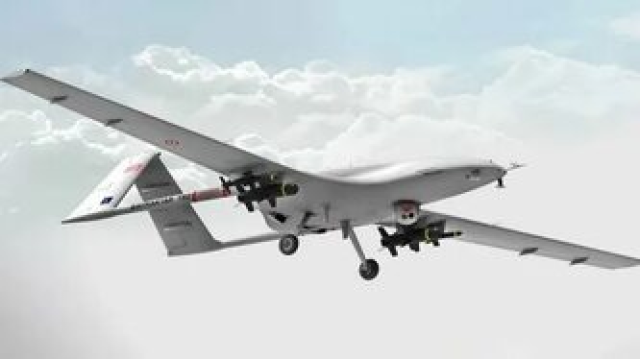military drone: (0, 67, 640, 280)
